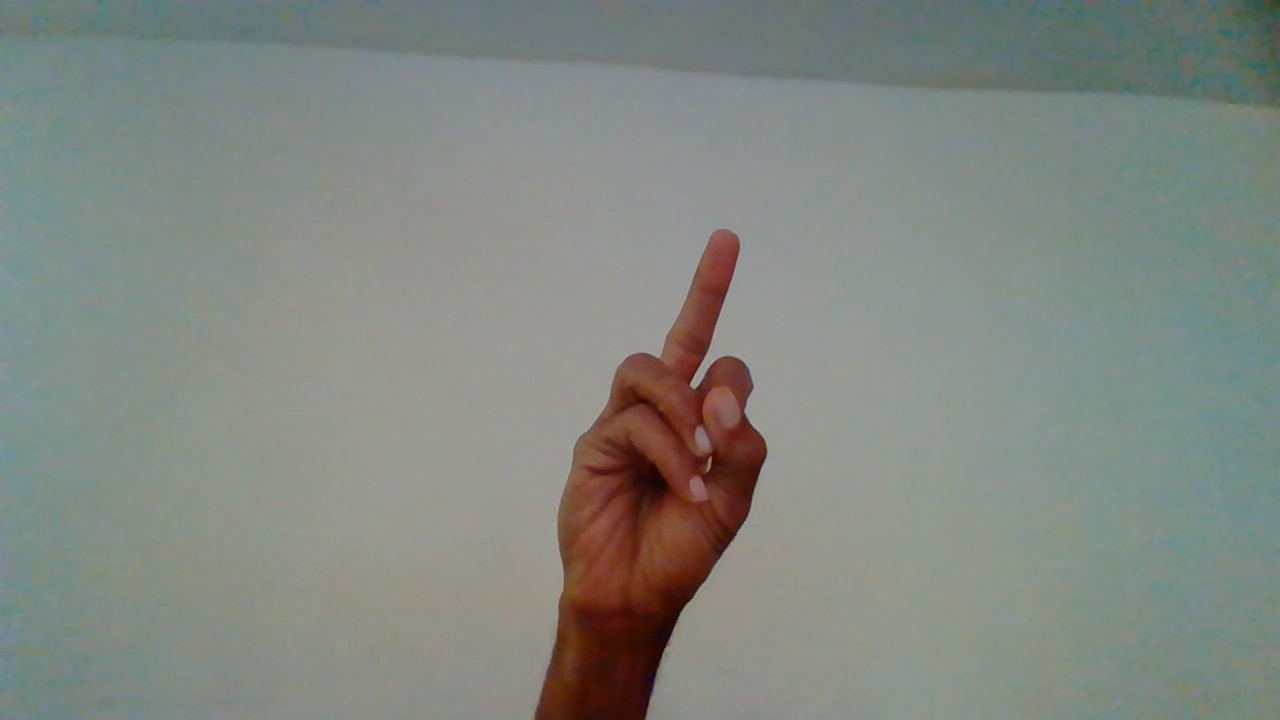he: (553, 227, 770, 711)
